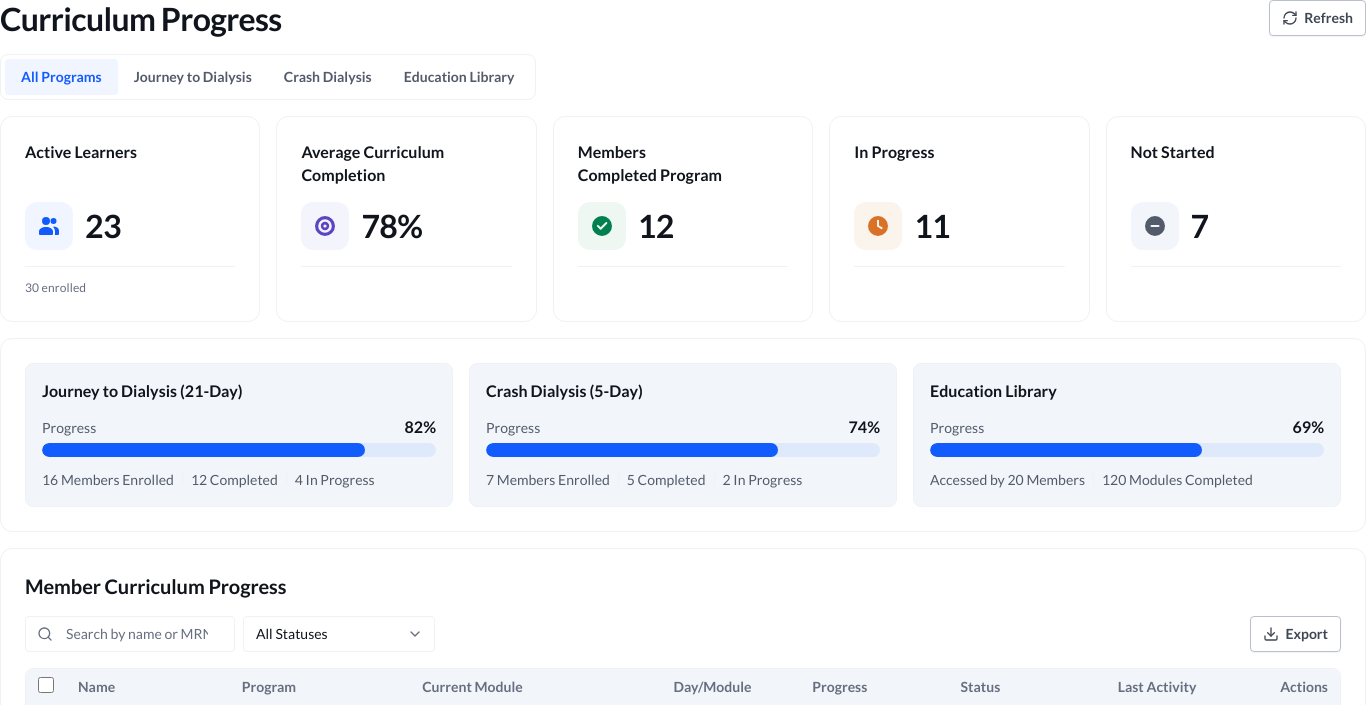
filtering › narrows by program from the course tabs
Click the tab "Crash Dialysis": x=328, y=77 x1=268 y1=59 x2=388 y2=95
(page scrolled)
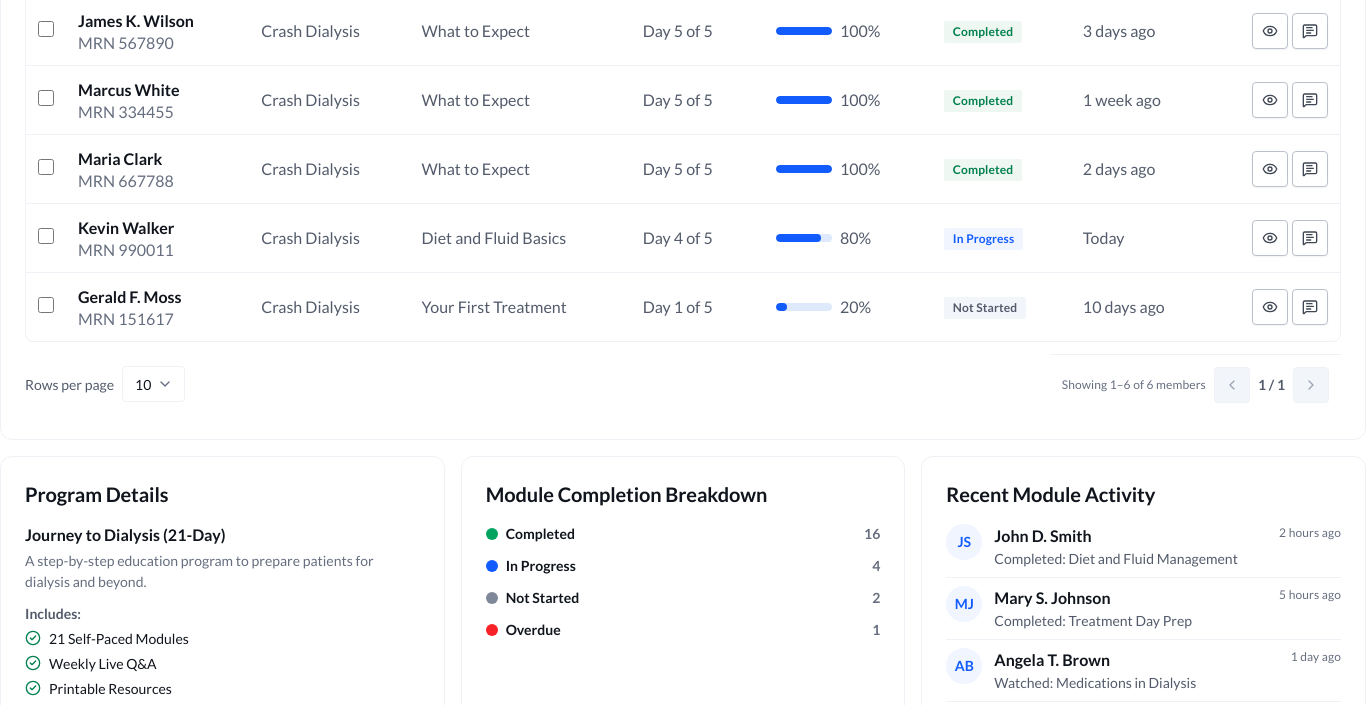
Expected: the text "Showing 1–6 of 6 members" is shown, x1=1062 y1=376 x2=1206 y2=394
